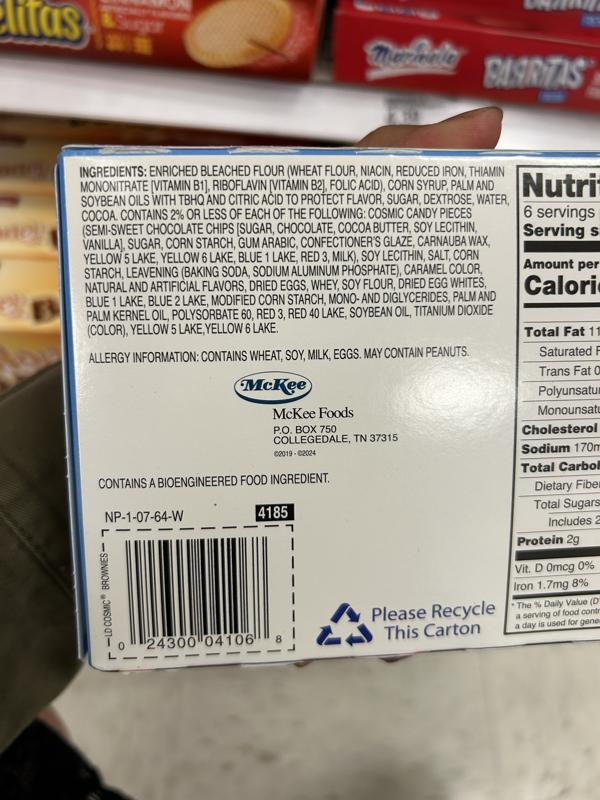ingredients: (75, 161, 512, 340)
